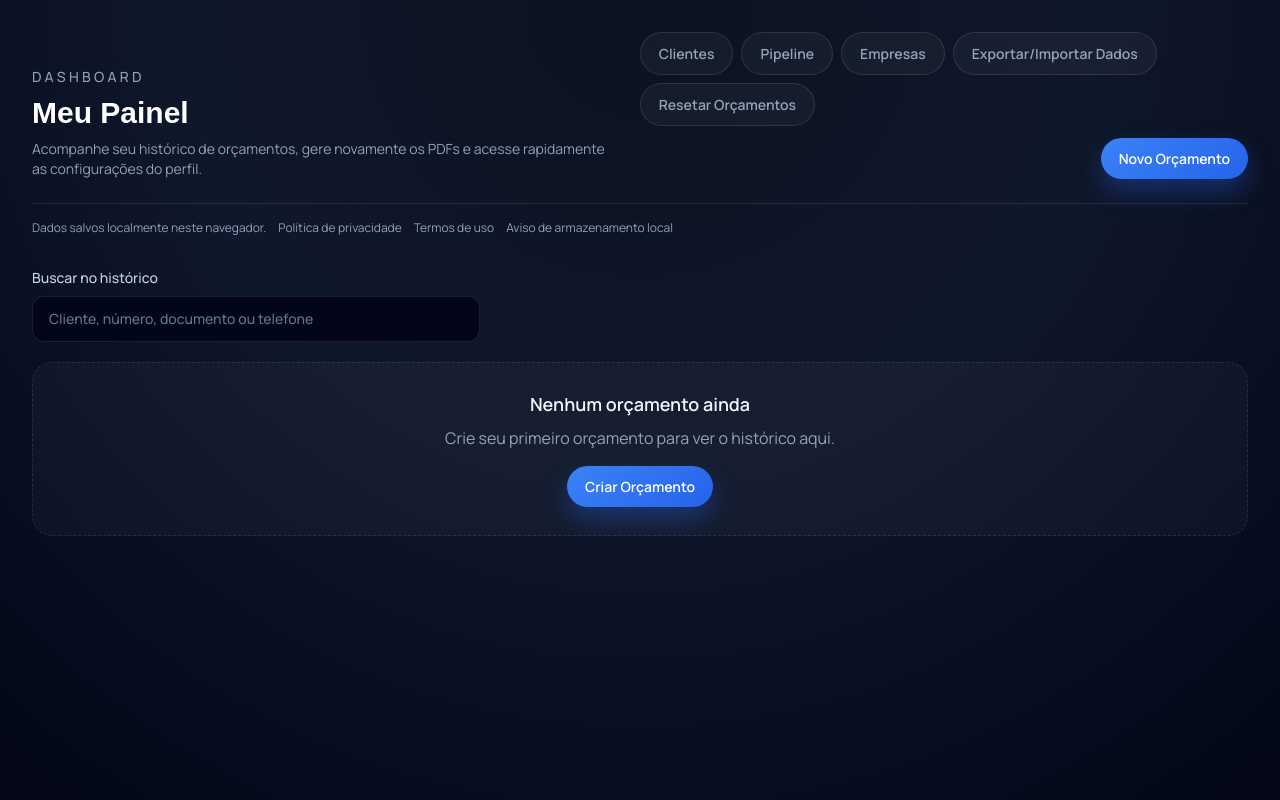
Test case: basic accessibility checks › uses an accessible modal for destructive actions
Click the button "Resetar Orçamentos" at (727, 104), box x1=640 y1=83 x2=815 y2=126
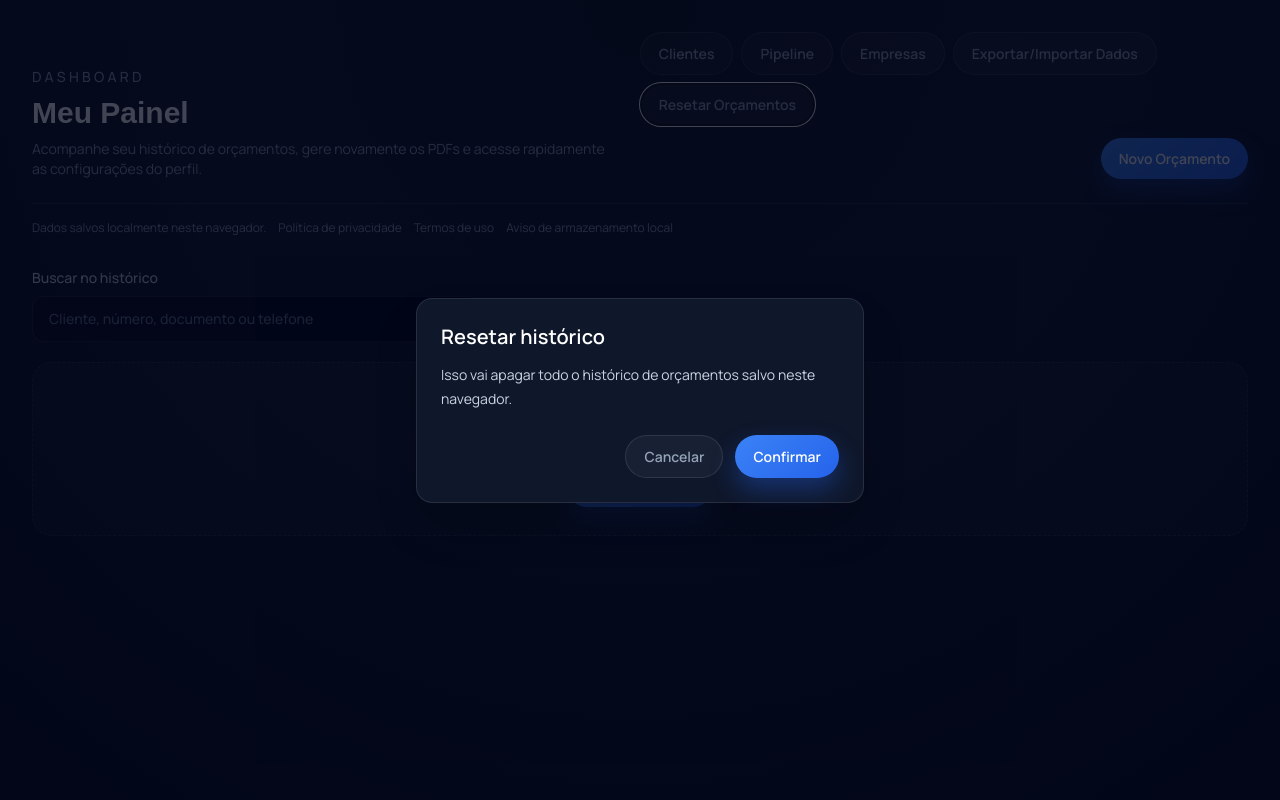
Check: the button "Cancelar" is shown, box x1=626 y1=434 x2=723 y2=478
Check: the button "Confirmar" is shown, box x1=735 y1=434 x2=839 y2=478
